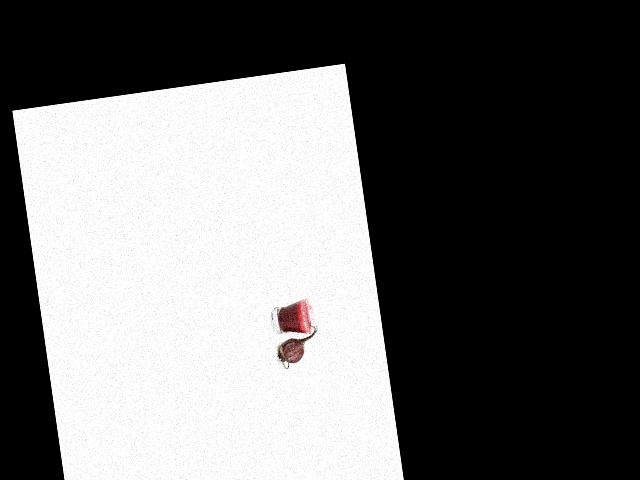beet: (273, 319, 322, 369)
